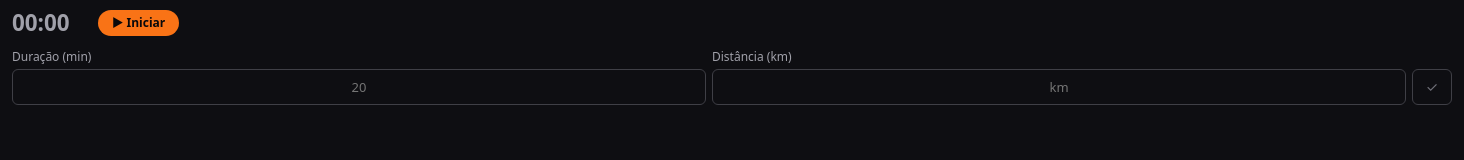
Test: CardioRow › cronômetro: iniciar, pausar, continuar e parar preenchendo a duração
What coordinates should you click on to do the following:
click the button "▶ Iniciar"
I would click on:
 (139, 23)
Its box is [98,10,179,36].
Wait 90000 ms
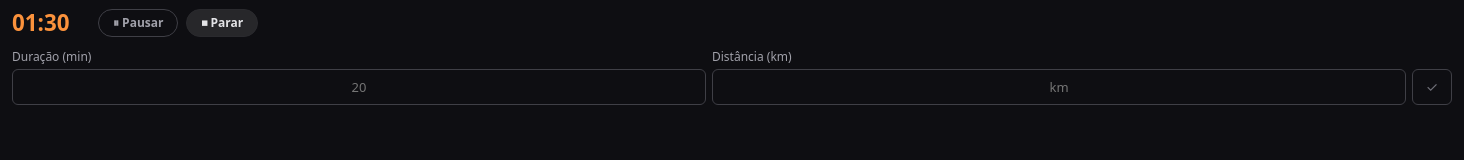
Now the text named "Cronômetro do cardio" reads "01:30", box [12,7,70,38]
What coordinates should you click on to do the following:
click the button "⏸ Pausar"
I would click on:
 (138, 23)
Its box is [98,9,178,37].
Wait 30000 ms
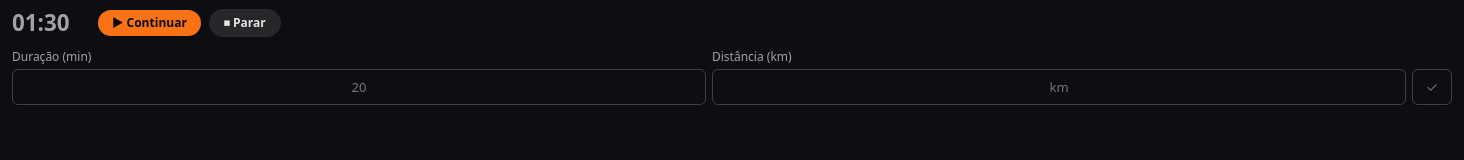
Now the text named "Cronômetro do cardio" reads "01:30", box [12,7,70,38]
What coordinates should you click on to do the following:
click the button "▶ Continuar"
I would click on:
 (149, 23)
Its box is [98,10,201,36].
Wait 30000 ms
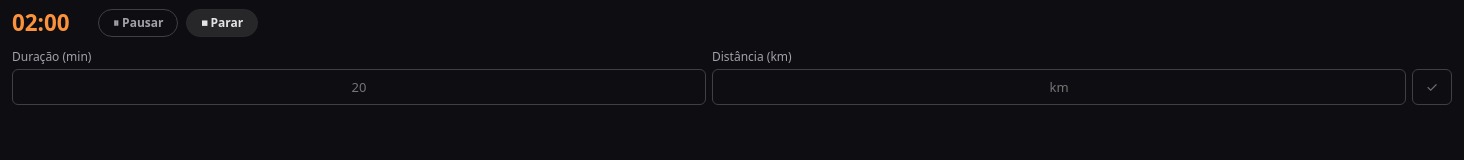
What coordinates should you click on to do the following:
click the button "⏹ Parar"
I would click on:
 (222, 23)
Its box is [186,9,258,37].
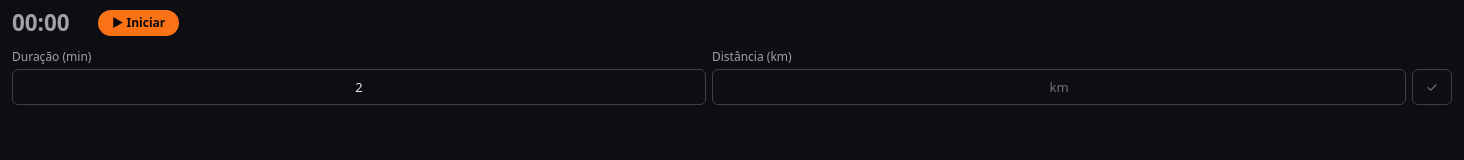
Now the field labelled "Duração (min)" holds "2", box [12,69,706,105]
Now the text named "Cronômetro do cardio" reads "00:00", box [12,7,70,38]
Now the button "⏹ Parar" is gone
